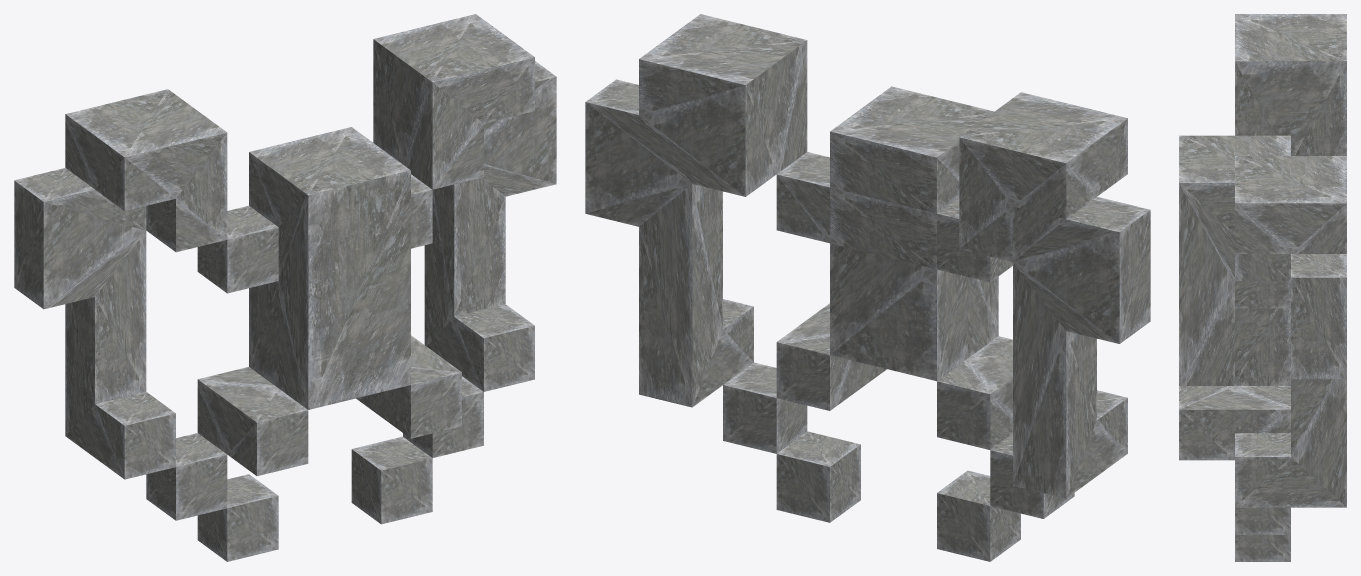
Rendered from Standardgegner03.fbx.
3 views of the same model, side by side, from view 1: azimuth 30°, elevation 25°; view 2: azimuth 150°, elevation 25°; view 3: azimuth 270°, elevation 25° (orthographic). The views are drawn at different scales.
Visible parts, largest first — view 1: Plane; view 2: Plane; view 3: Plane.
Boxes of the visible parts, x1,y1,x2,y2 form: Plane: [14, 14, 556, 561]; Plane: [585, 14, 1150, 561]; Plane: [1179, 14, 1346, 561].
Size of the model in its own units: 200 by 160 by 60.
